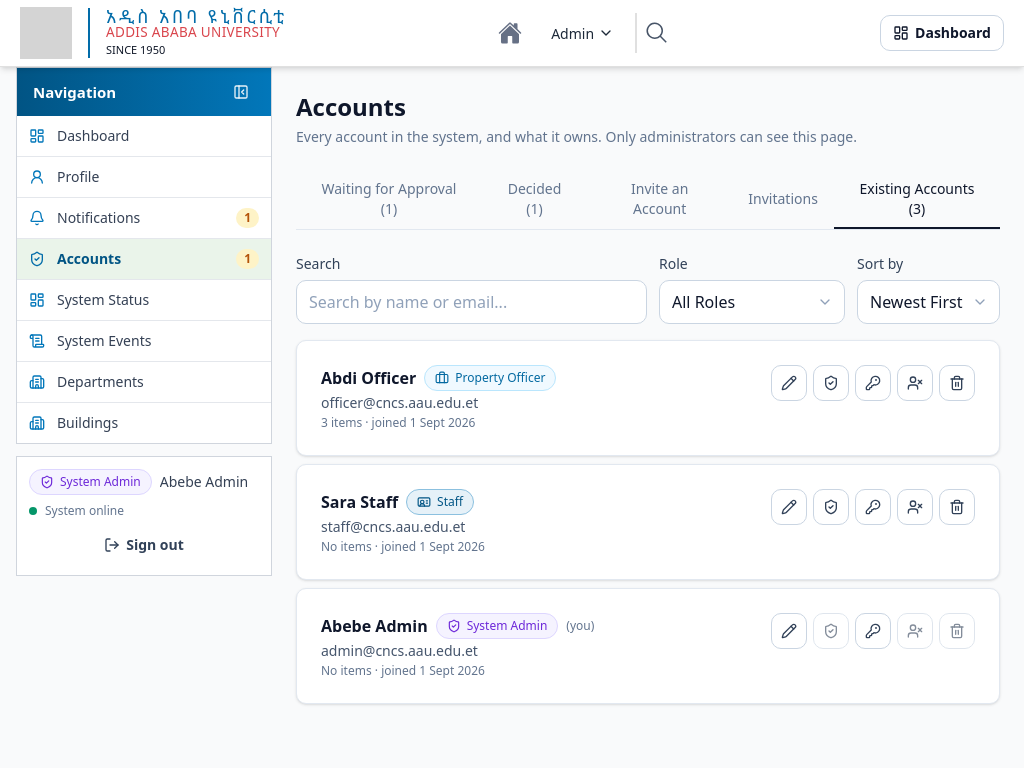
Test: /admin/users — inviting a privileged account (T6) › asks for the outside authorization and offers no password field at all
Click the button "Invite an Account".
click(660, 200)  # box [587, 171, 732, 229]
(page scrolled)
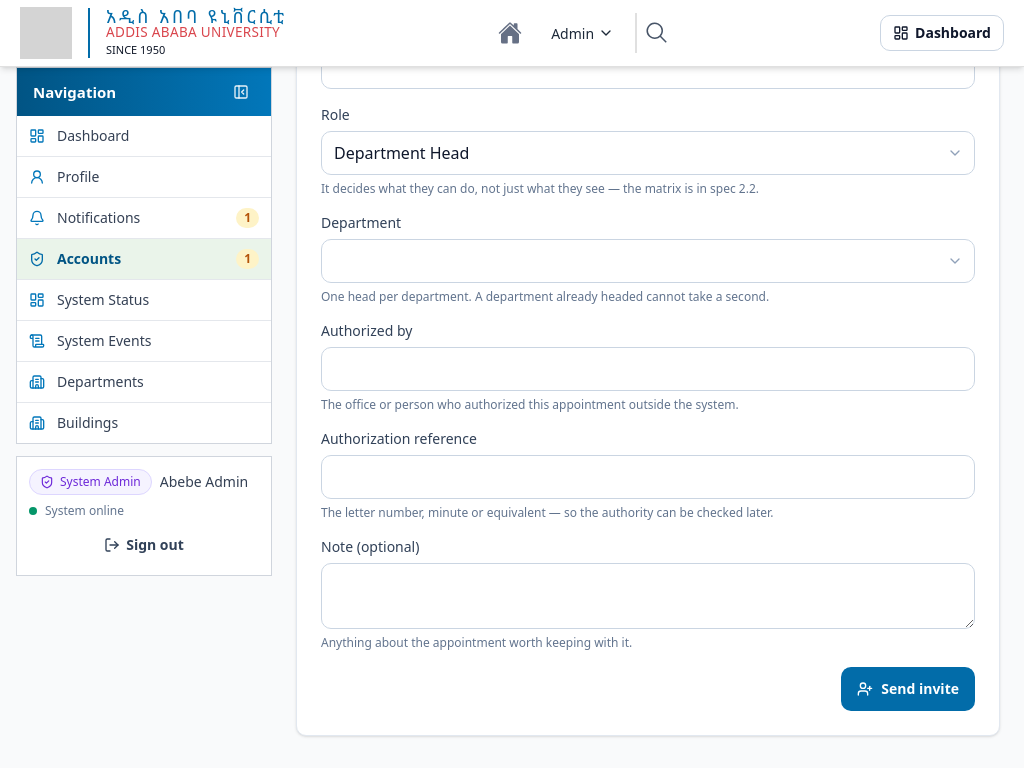
Expected: the field labelled "Authorized by" is shown, [321, 347, 975, 391]
Expected: the field labelled "Authorization reference" is shown, [321, 455, 975, 499]
